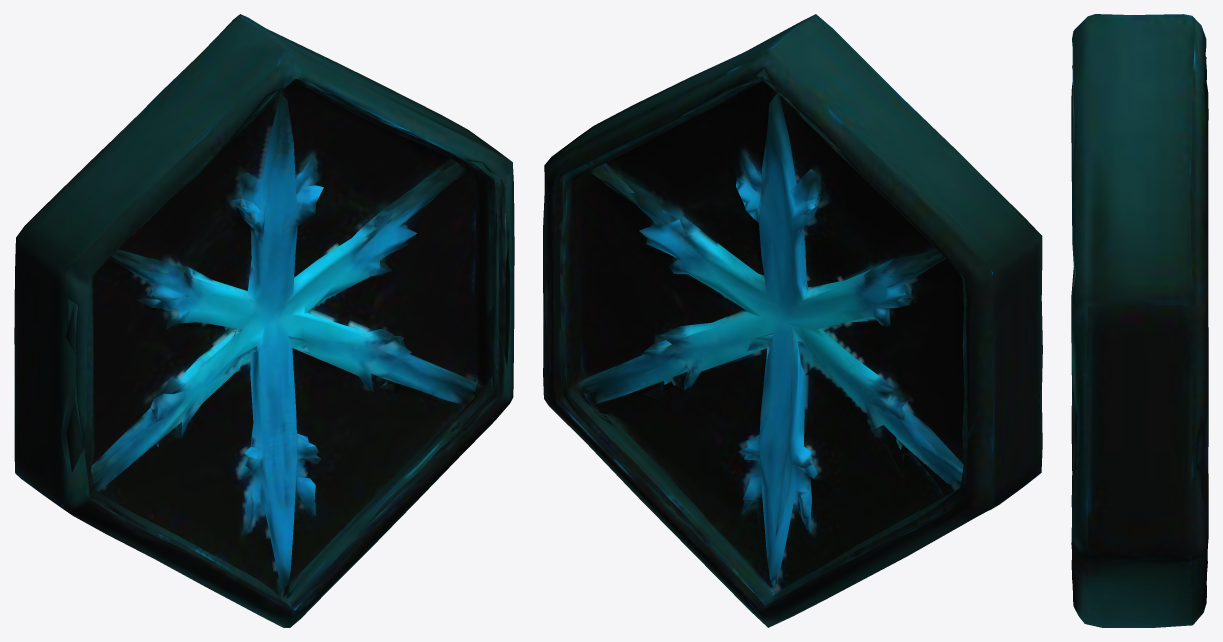
The model's file is fs_fork_rune.glb.
3 renders of one model, left to right at view 1: azimuth 30°, elevation 25°; view 2: azimuth 150°, elevation 25°; view 3: azimuth 270°, elevation 25°, orthographic. The views are drawn at different scales.
Parts seen in each view (by area): view 1: geometry_0; view 2: geometry_0; view 3: geometry_0.
Part boxes in pixels (x1,y1,x2,y2): geometry_0: (14,14,514,627); geometry_0: (543,14,1042,627); geometry_0: (1071,14,1208,627).
Bounding box in the file's own units: 0.8164 × 1 × 0.2041.
1 material, 1 textured.
